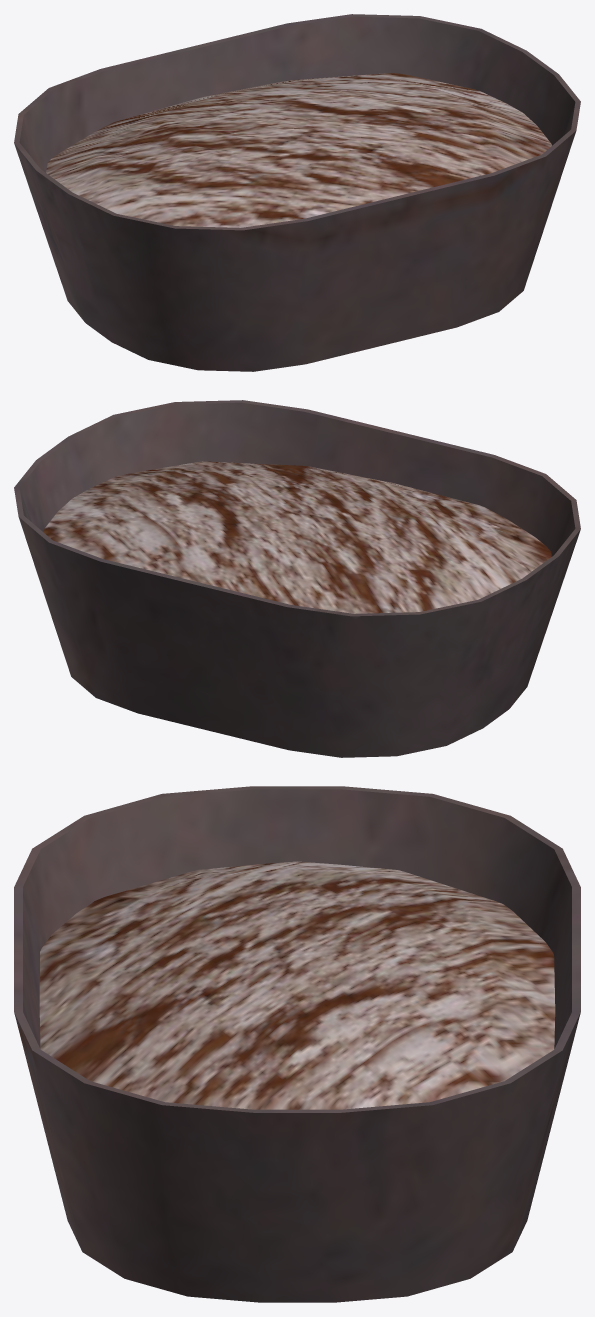
File: Metal_Tub_2.fbx
The picture shows the model from 3 angles, top to bottom: view 1: azimuth 30°, elevation 25°; view 2: azimuth 150°, elevation 25°; view 3: azimuth 270°, elevation 25°; orthographic projection. The views are drawn at different scales.
Visible parts, largest first — view 1: Metal Tub_2; view 2: Metal Tub_2; view 3: Metal Tub_2.
Boxes of the visible parts, x1,y1,x2,y2 form: Metal Tub_2: (14, 14, 580, 371); Metal Tub_2: (14, 400, 580, 757); Metal Tub_2: (14, 786, 580, 1302).
Bounding box in the file's own units: 1.26 × 0.3982 × 0.9265.
